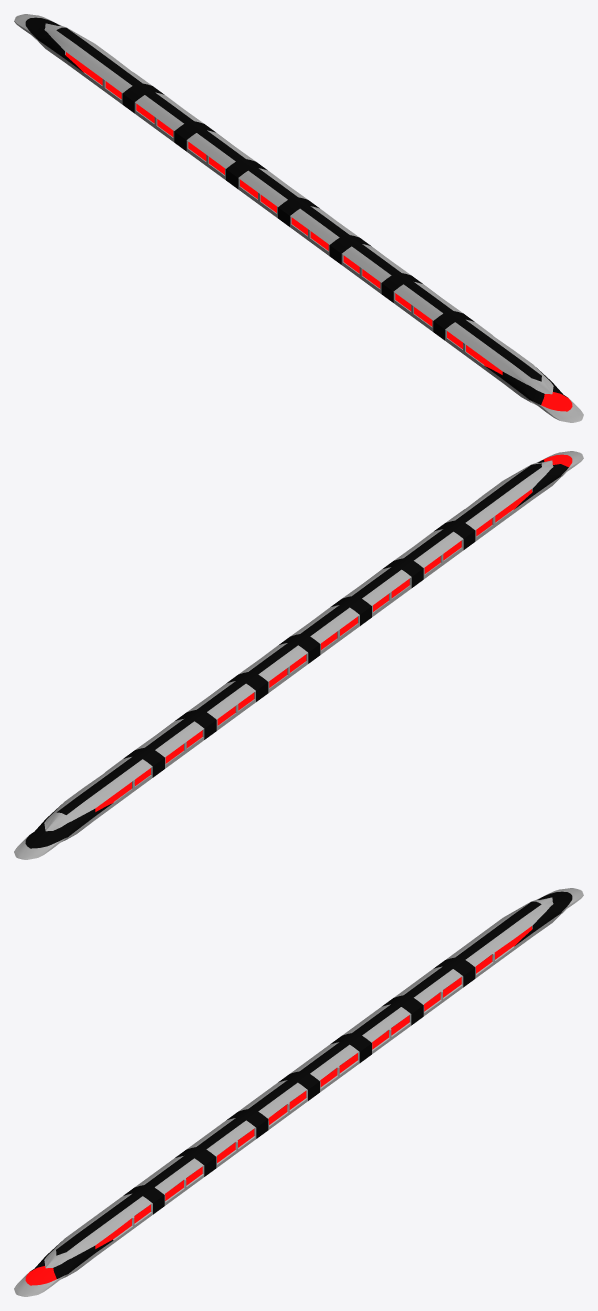
Rendered from lowpoly1colortrain.fbx.
3 views of the same model, one above another, from view 1: azimuth 30°, elevation 25°; view 2: azimuth 150°, elevation 25°; view 3: azimuth 330°, elevation 25° (orthographic).
Visible parts, largest first — view 1: trein; view 2: trein; view 3: trein.
Boxes of the visible parts, x1,y1,x2,y2 form: trein: [14, 14, 583, 422]; trein: [14, 451, 583, 859]; trein: [14, 888, 583, 1296].
Size of the model in its own units: 3.04 by 2.17 by 93.88.
